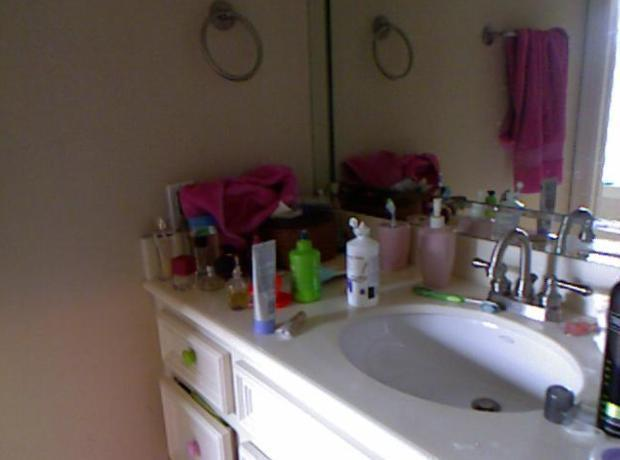Lavamanos: (333, 210, 593, 433)
